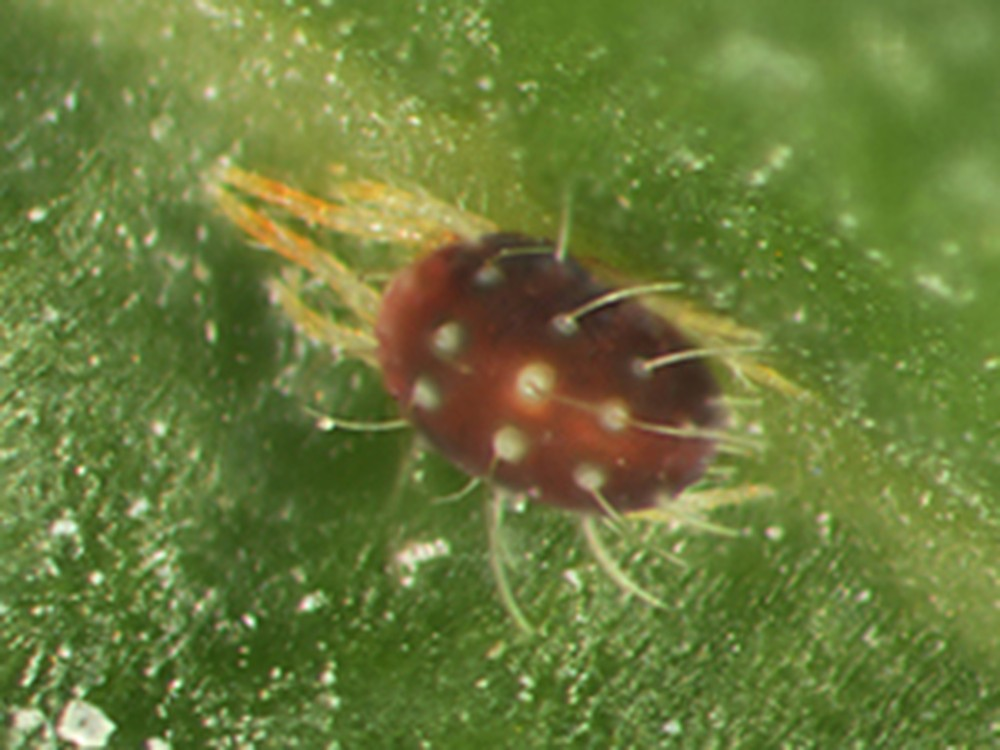Aracnido Rojo: (175, 146, 815, 622)
